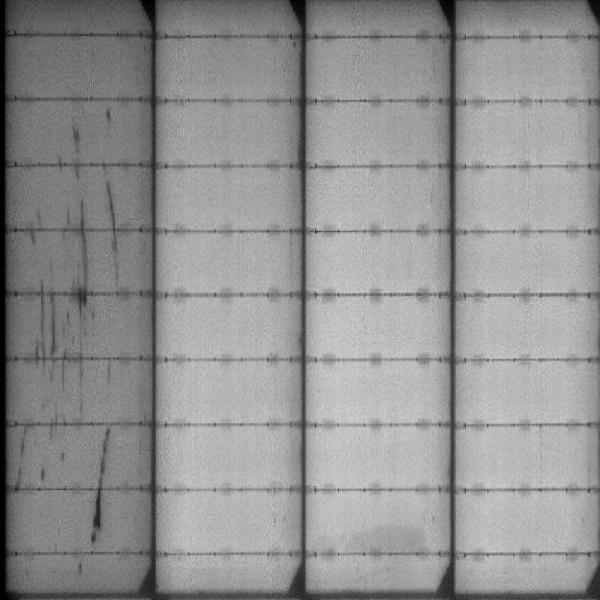scratch: (94, 166, 126, 273), (90, 429, 118, 545), (71, 194, 95, 325), (9, 427, 32, 486), (34, 296, 56, 355), (46, 360, 89, 387), (71, 122, 83, 177)
